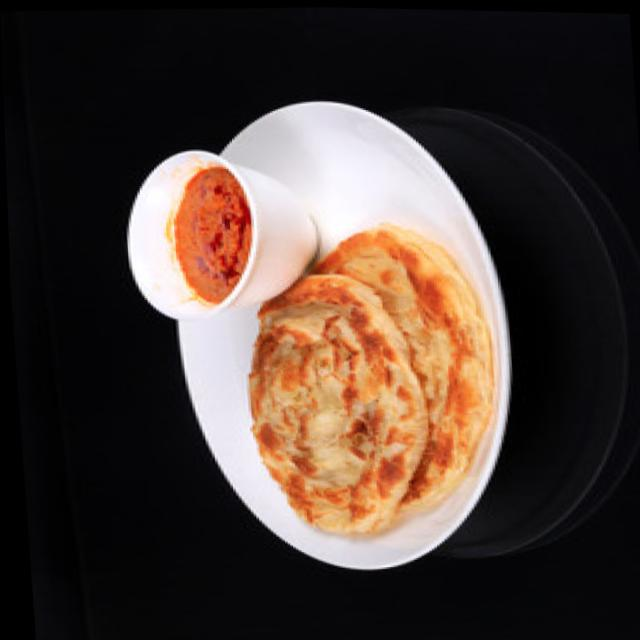KURMA: (174, 167, 252, 303)
PAROTTA: (231, 232, 481, 542)
